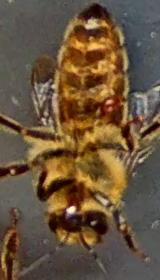varroa_mite: (92, 91, 127, 123)
